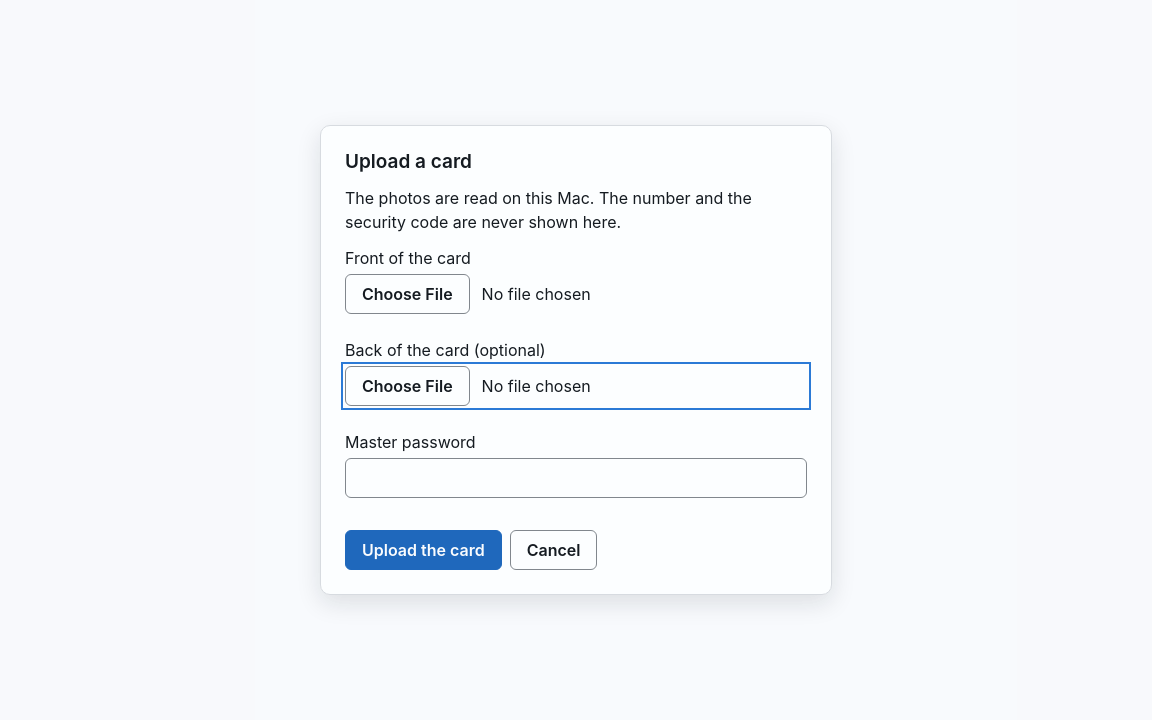
Scenario: CardUpload › card upload posts front, back and master password and shows the result
Earlier steps of the test are not shown.
Step 1. Type "test-only-master-pw" into the password field labelled "Master password" → (576, 478), box [345, 458, 807, 498]
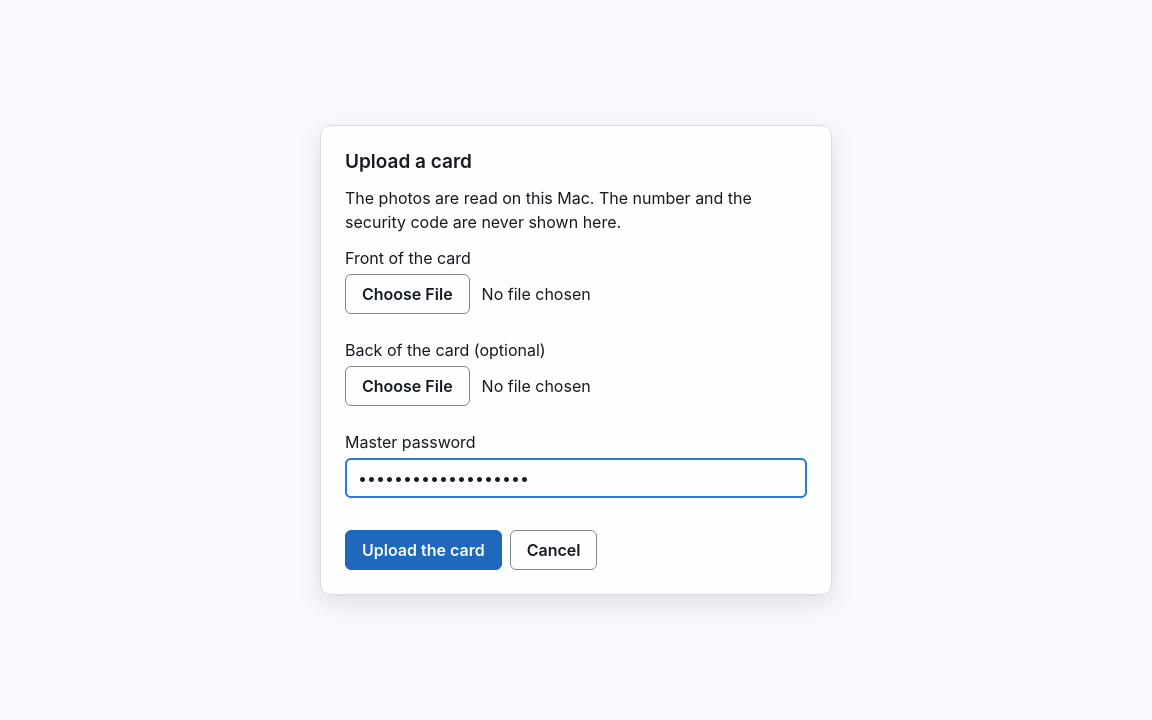
Step 2. Click the button "Upload the card" → click(423, 550), box [345, 530, 502, 570]
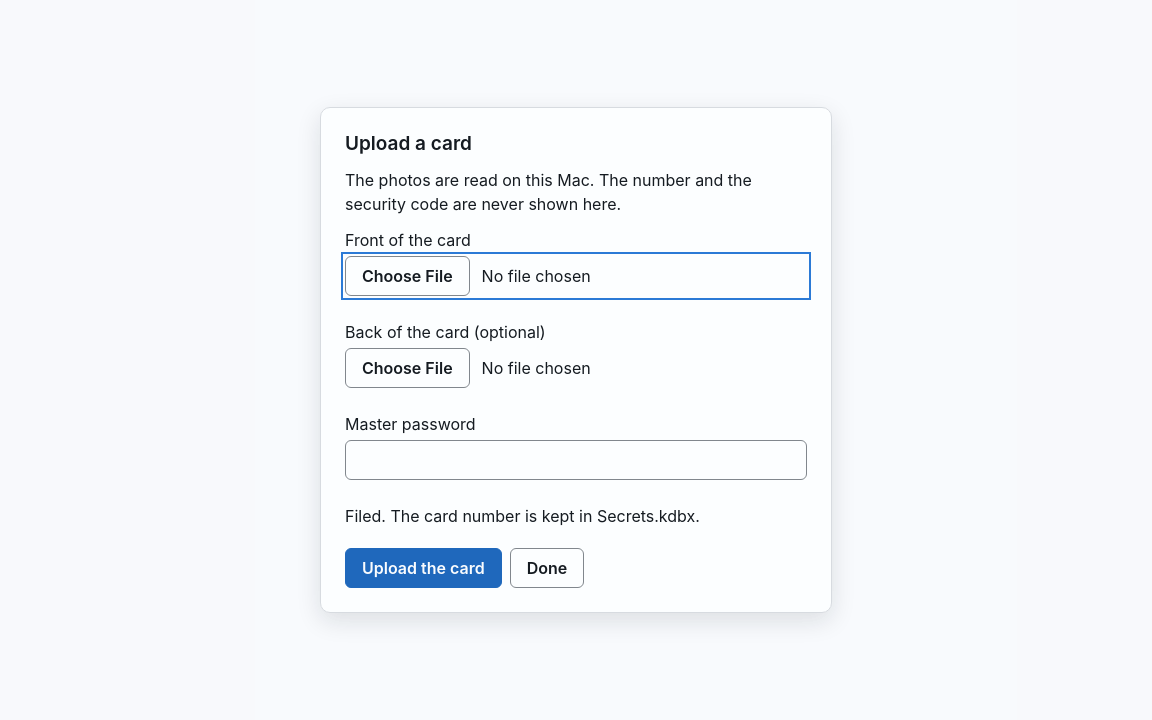
Check: the text "Filed. The card number is kept in Secrets.kdbx." is shown, box [345, 506, 700, 526]
